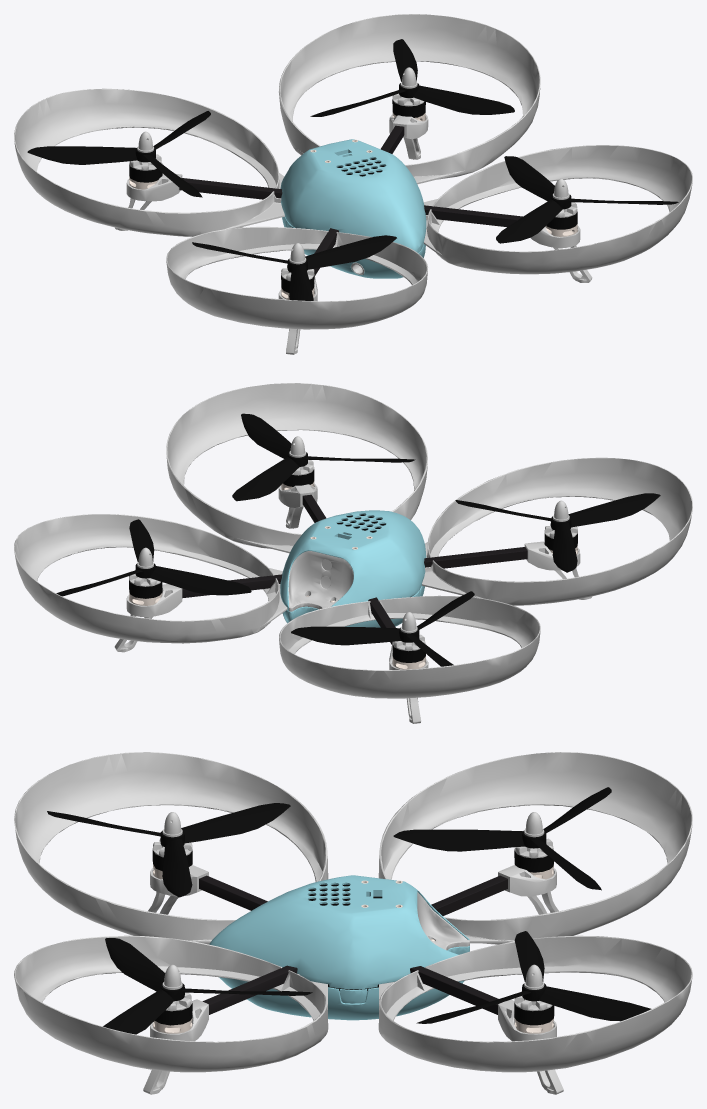
Rendered from spiri.dae.
3 views of the same model, one above another, from view 1: azimuth 30°, elevation 25°; view 2: azimuth 150°, elevation 25°; view 3: azimuth 270°, elevation 25° (orthographic). The views are drawn at different scales.
Visible parts, largest first — view 1: Spiri, Propeller4, Propeller2, Propeller1, Propeller3; view 2: Spiri, Propeller4, Propeller3, Propeller1, Propeller2; view 3: Spiri, Propeller3, Propeller2, Propeller4, Propeller1.
Boxes of the visible parts, bbox=[...] form: Spiri: bbox=[14, 14, 692, 354]; Propeller4: bbox=[496, 156, 678, 243]; Propeller2: bbox=[27, 111, 210, 197]; Propeller1: bbox=[310, 39, 514, 116]; Propeller3: bbox=[192, 235, 396, 300]; Spiri: bbox=[14, 383, 692, 723]; Propeller4: bbox=[232, 413, 415, 501]; Propeller3: bbox=[455, 493, 660, 572]; Propeller1: bbox=[56, 519, 251, 596]; Propeller2: bbox=[291, 591, 474, 666]; Spiri: bbox=[14, 752, 692, 1094]; Propeller3: bbox=[47, 803, 290, 897]; Propeller2: bbox=[393, 787, 611, 890]; Propeller4: bbox=[103, 938, 312, 1034]; Propeller1: bbox=[416, 931, 651, 1023].
Bounding box in the file's own units: 0.4754 × 0.4754 × 0.0925.
